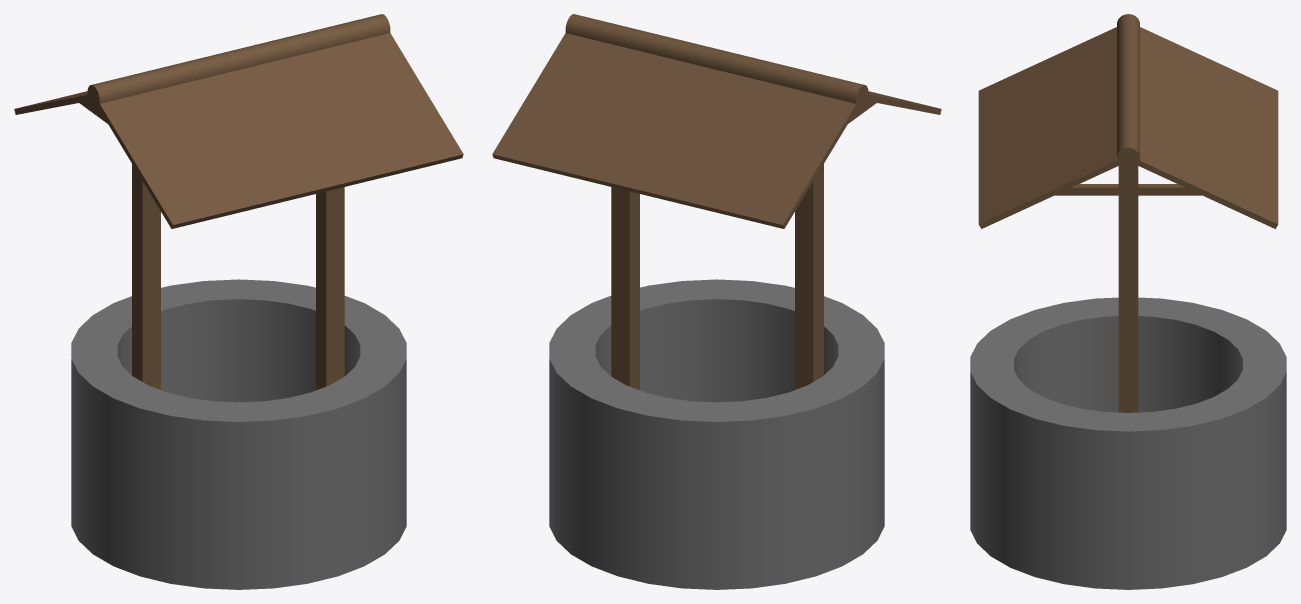
Rendered from ido_04 (2).fbx.
The picture shows the model from 3 angles, left to right: view 1: azimuth 30°, elevation 25°; view 2: azimuth 150°, elevation 25°; view 3: azimuth 270°, elevation 25°; orthographic projection. The views are drawn at different scales.
Parts seen in each view (by area): view 1: pCylinder1, pCylinder2, pCube5; view 2: pCylinder1, pCylinder2, pCube5; view 3: pCylinder1, pCylinder2, pCube5, pCube6.
Boxes of the visible parts, x1=… form: pCylinder1: x1=71, y1=279, x2=406, y2=589; pCylinder2: x1=14, y1=14, x2=463, y2=228; pCube5: x1=132, y1=164, x2=344, y2=390; pCylinder1: x1=549, y1=279, x2=884, y2=589; pCylinder2: x1=492, y1=14, x2=941, y2=228; pCube5: x1=611, y1=164, x2=823, y2=390; pCylinder1: x1=970, y1=297, x2=1286, y2=589; pCylinder2: x1=978, y1=14, x2=1278, y2=228; pCube5: x1=1118, y1=165, x2=1138, y2=412; pCube6: x1=1055, y1=184, x2=1201, y2=195.
Size of the model in its own units: 4.55 by 6.97 by 4.53.
